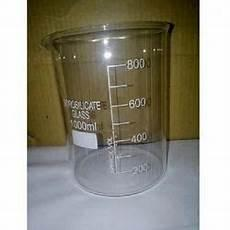Beaker: (42, 21, 175, 199)
